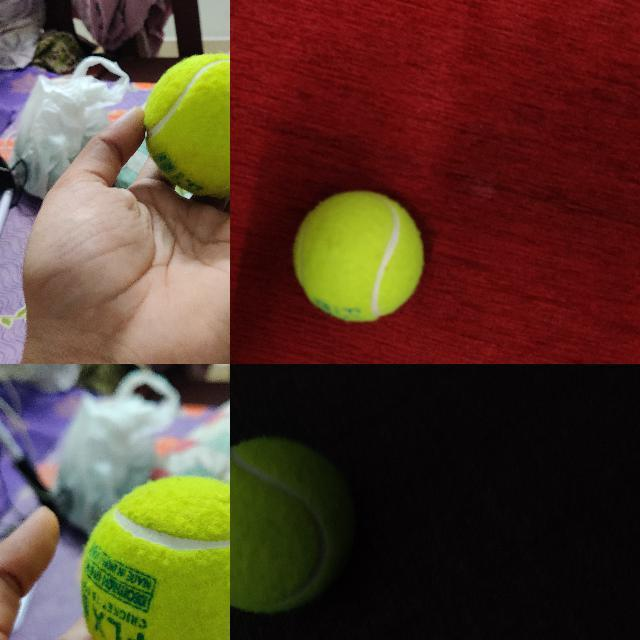tennis-ball: (79, 473, 229, 639), (230, 436, 357, 612), (292, 190, 424, 321), (143, 52, 229, 199)
